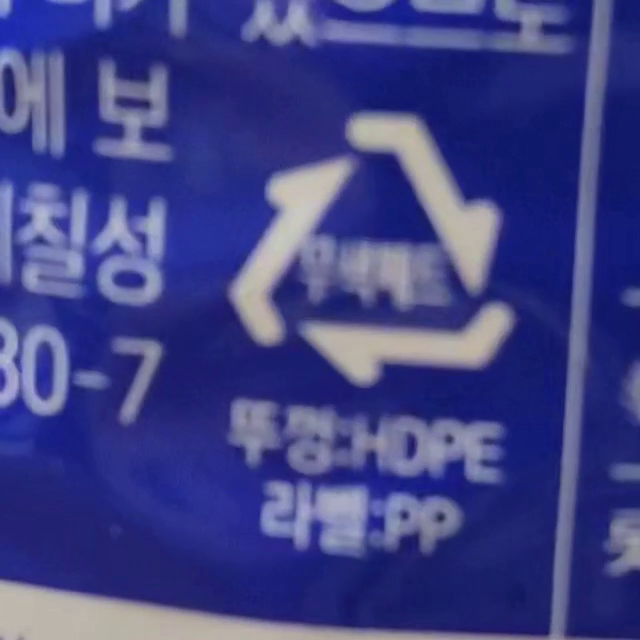ColorlessPet: (228, 112, 513, 384)
